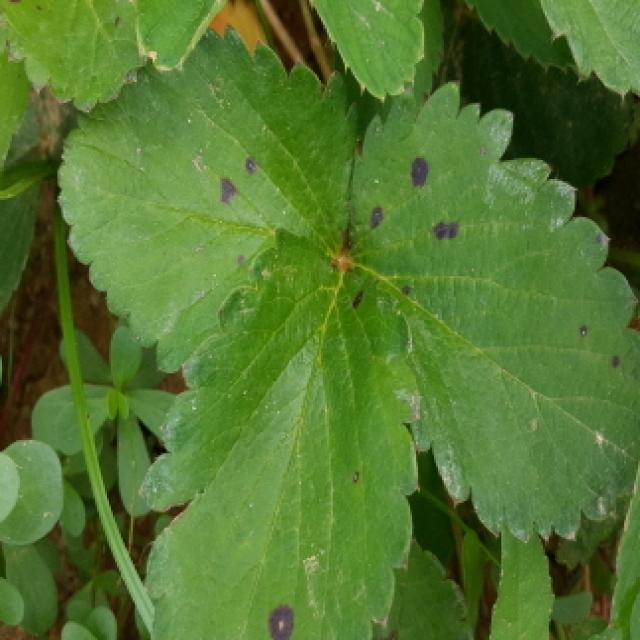Leaf Spot: (344, 79, 640, 547), (136, 227, 422, 640), (53, 20, 363, 376)
